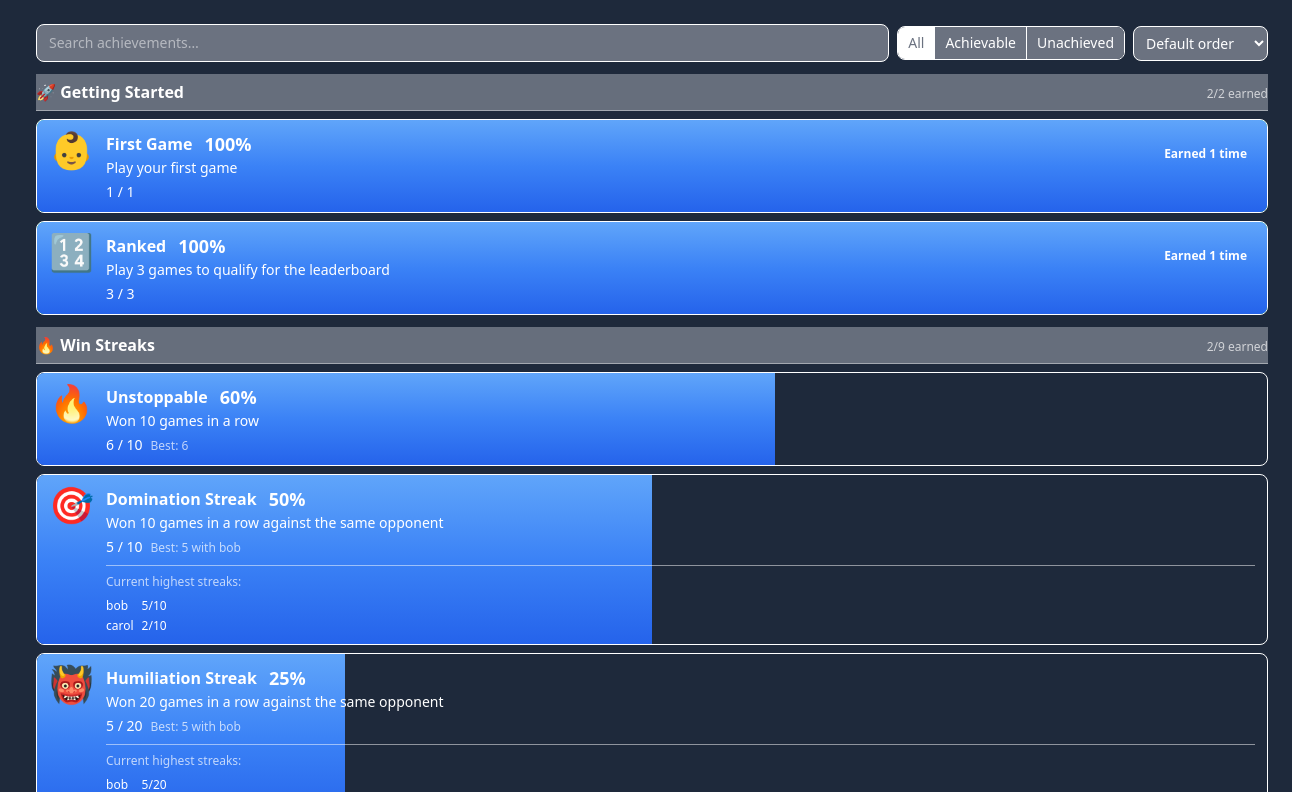
Scenario: navigation from a player's achievements to the details page › links a progress row's name and icon to its details
Click the link "Humiliation Streak" at (181, 678), box [106, 667, 257, 689]
(page scrolled)
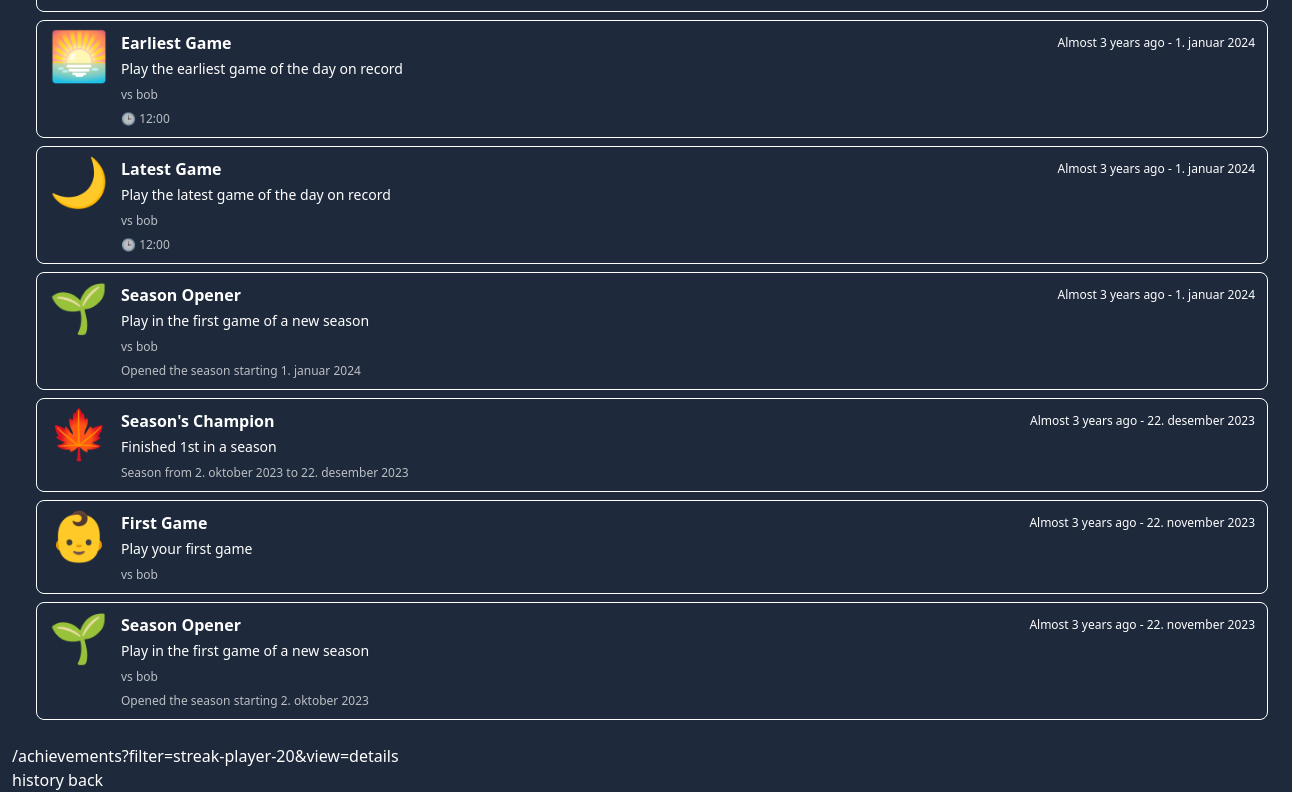
Check: the text with test id "location" reads "/achievements?filter=streak-player-20&view=details", box [12, 745, 399, 767]
